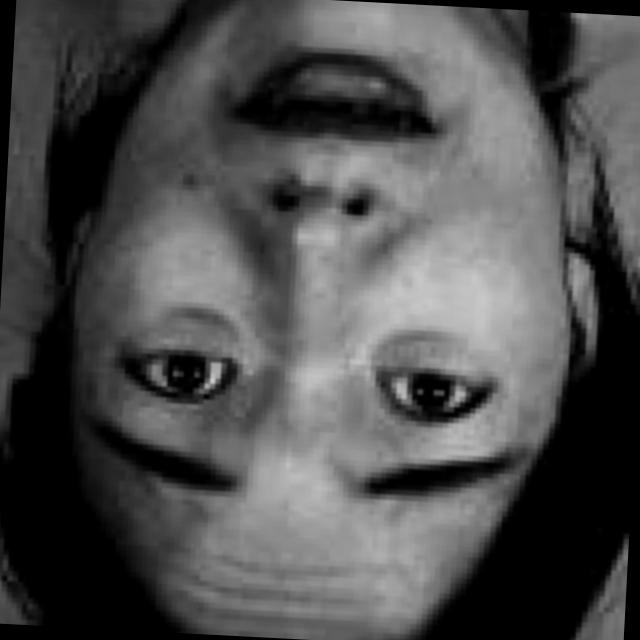fear: (63, 9, 562, 618)
